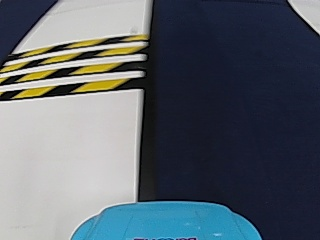bump: (13, 35, 129, 98)
